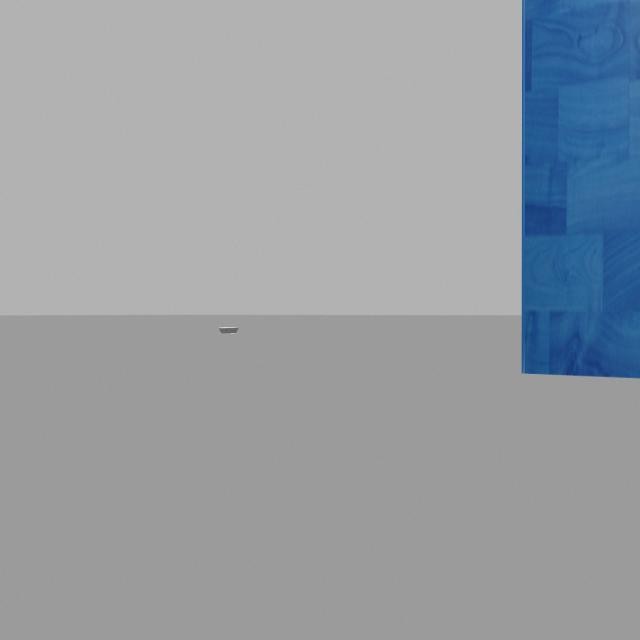bowl: (212, 319, 248, 343)
shelf: (495, 0, 640, 417)
